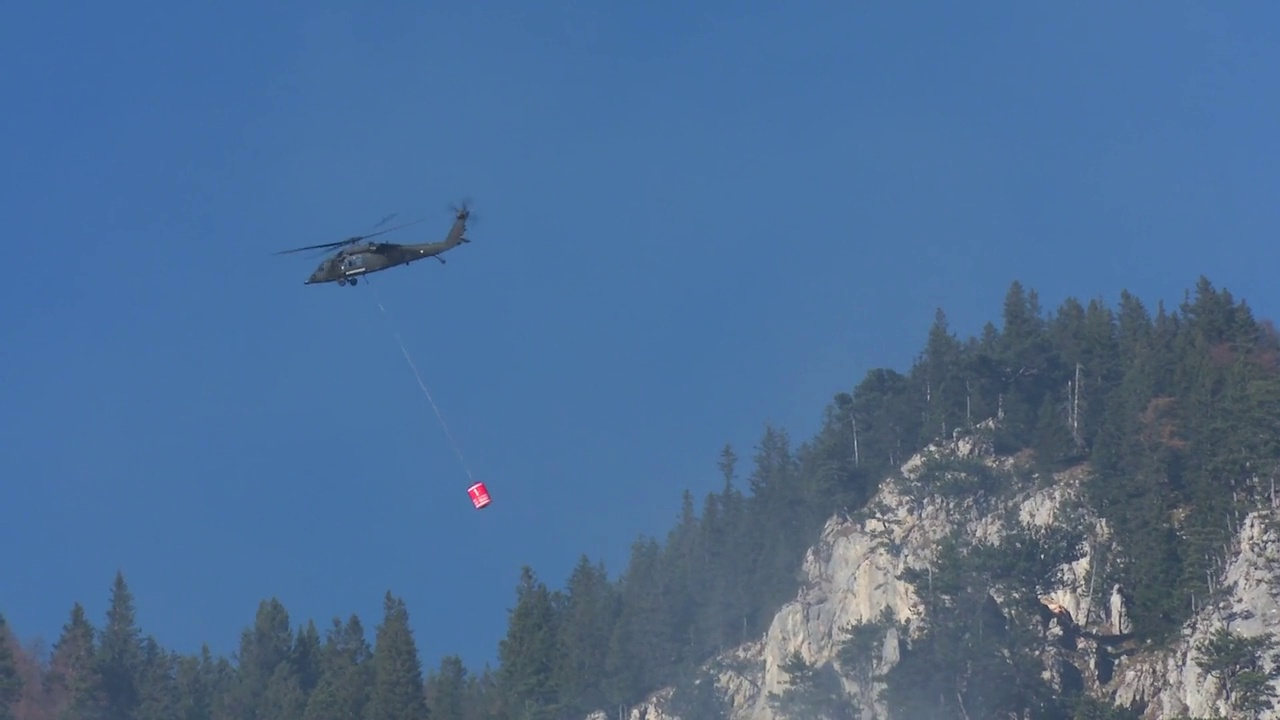heli: (276, 195, 473, 288)
